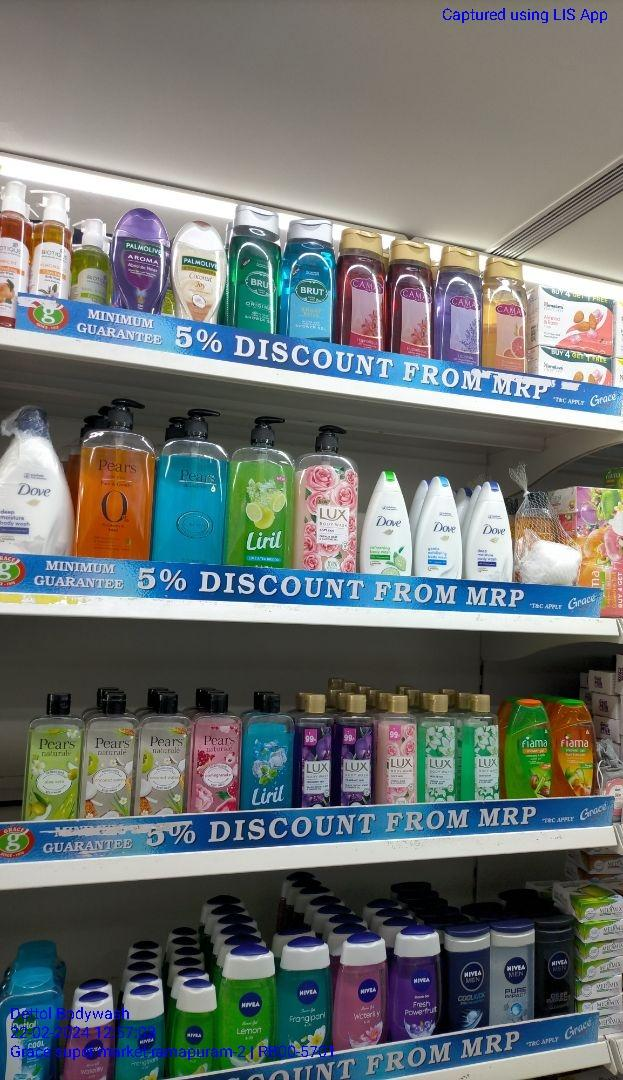Dove_Deep_Moisture_Body_Wash_250ML: (465, 476, 517, 580)
Dove_Gentle_Exfoliating_Body_Wash_250ML: (414, 474, 466, 582)
Dove_Refreshing_Body_Wash_250ML: (364, 471, 411, 579)
Fiama_Shower_Gel_Lemongrass_and_Jojoba_250ML: (505, 701, 552, 799)
Fiama_Shower_Gel_Peach_and_Avocado_250ML: (555, 697, 596, 800)
Lux_Black_Orchid_Scent_and_Juniper_Oil_Body_Wash_245ML: (300, 695, 334, 808), (342, 693, 374, 803)
Lux_Body_Wash_Skin_Detox_Freesia_Scent_and_Alove_Vera_245ML: (420, 696, 459, 804), (464, 691, 500, 802)
Nivea_Shower_Gel_Frangipani_and_Oil_250ML: (278, 939, 330, 1055)
Nivea_Shower_Gel_Fresh_Powerfruit_250ML: (390, 928, 443, 1037)
Nivea_Shower_Gel_Lemon_and_Oil_250ML: (223, 950, 277, 1066)
Nivea_Shower_Gel_Waterlily_and_Oil_250ML: (332, 934, 386, 1048)
Palmolive_Aroma_Relax_250ML: (106, 202, 162, 312)
Palmolive_Coconut_Joy_Exfoliating_Body_Wash_250ML: (168, 217, 224, 323)
Pears_Naturale_Aloe_Vera_Body_Wash_250ML: (24, 695, 80, 821)
